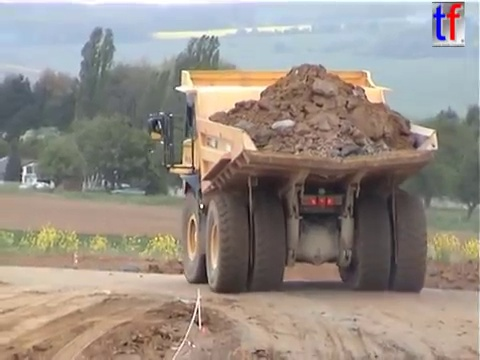truck: (145, 66, 440, 295)
